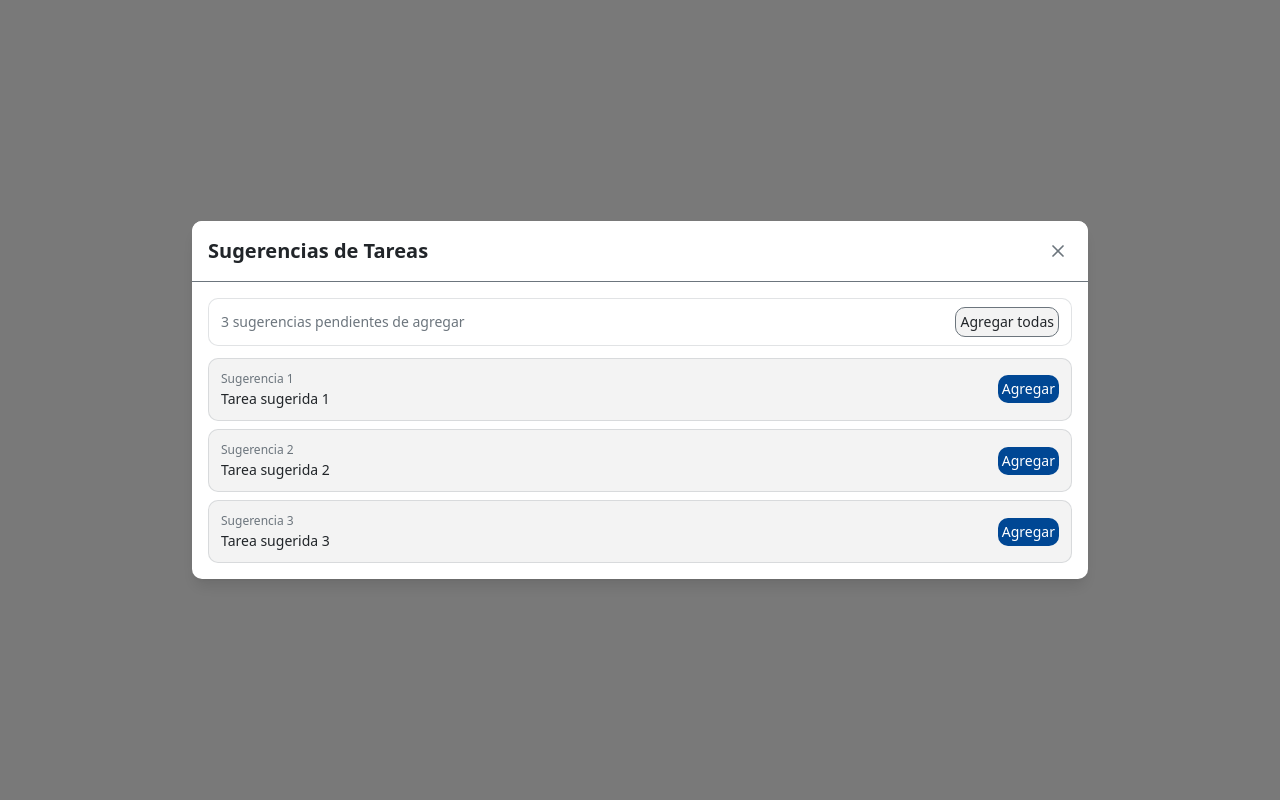
SuggestionsModal › debería ocultar la sugerencia después de agregarla
Click the button "Agregar" in the row of "Tarea sugerida 1". click: (1028, 389)
box: [998, 375, 1059, 403]
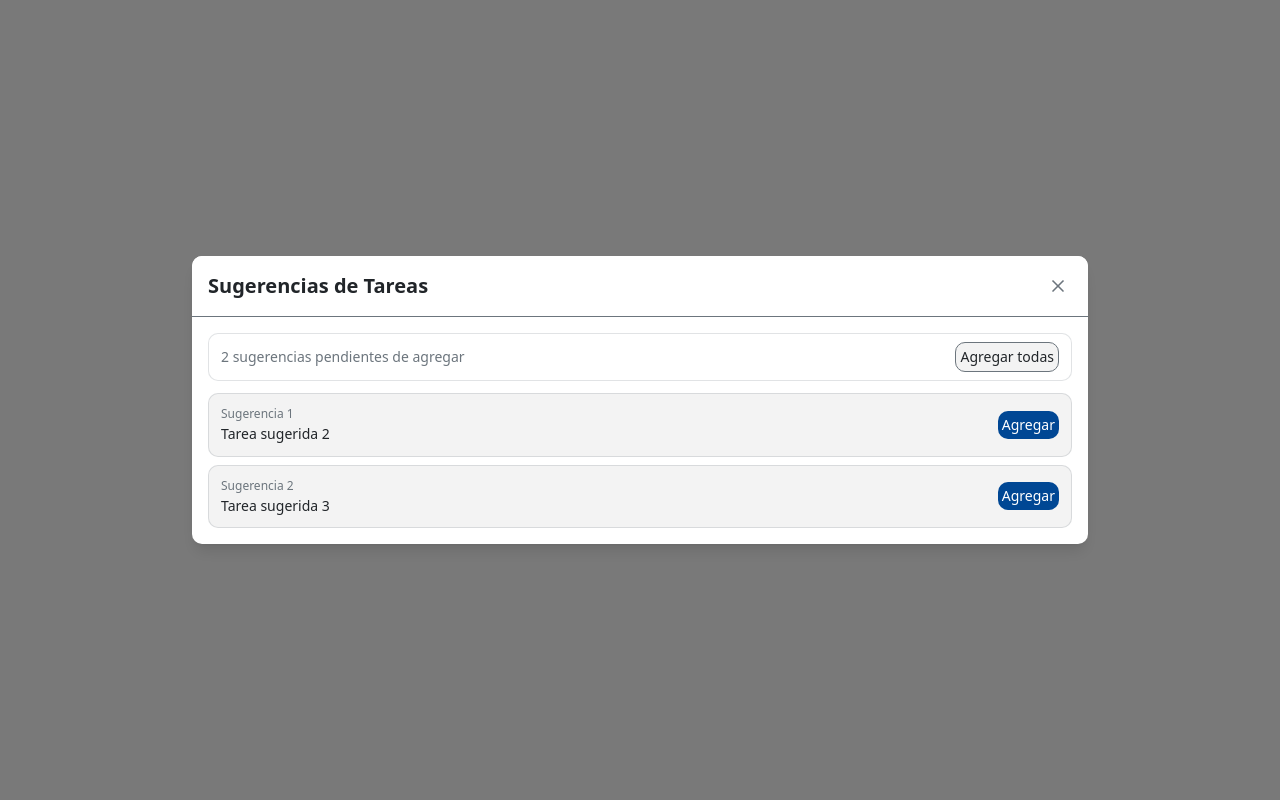
expect the text "Tarea sugerida 1" is gone: met
